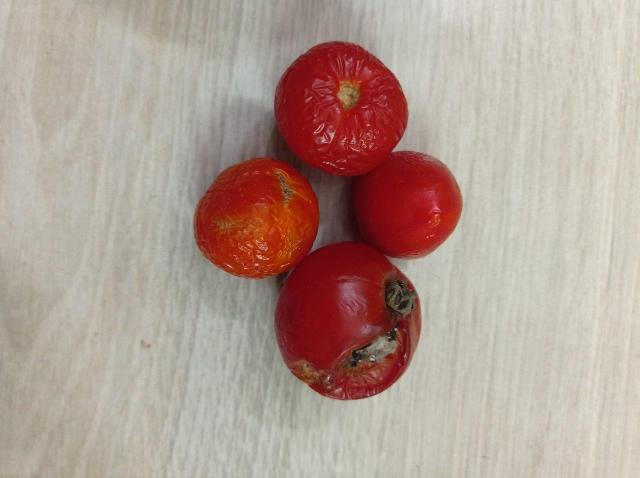defect: (271, 238, 428, 403), (192, 154, 321, 283)
